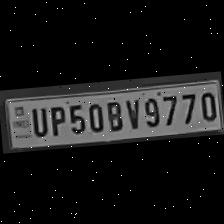0: (196, 86, 220, 121), (83, 98, 105, 133)
5: (64, 98, 86, 134)
7: (158, 90, 180, 126), (175, 88, 197, 124)
9: (138, 93, 162, 128)
B: (102, 96, 124, 132)
P: (46, 102, 68, 136)
U: (26, 103, 49, 136)
V: (122, 94, 142, 130)
